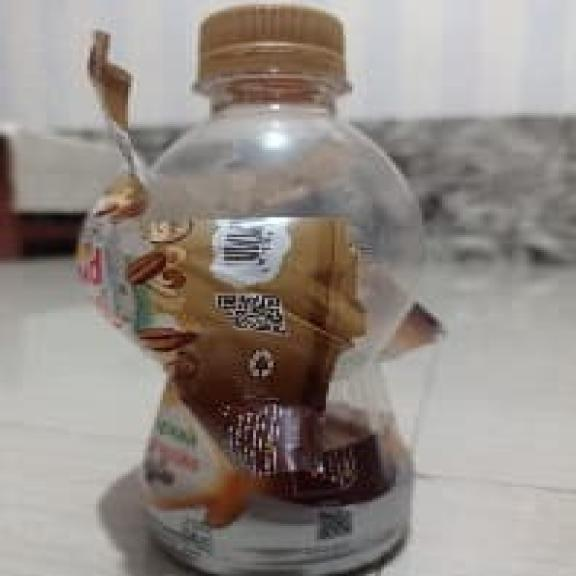Plastik: (99, 6, 419, 574)
